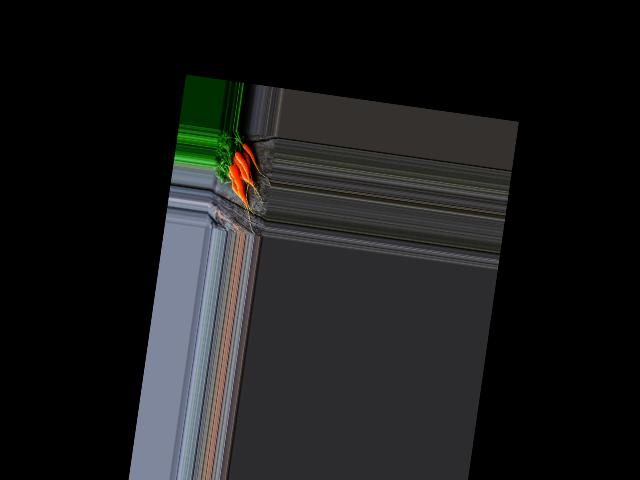carrot: (223, 160, 251, 202)
